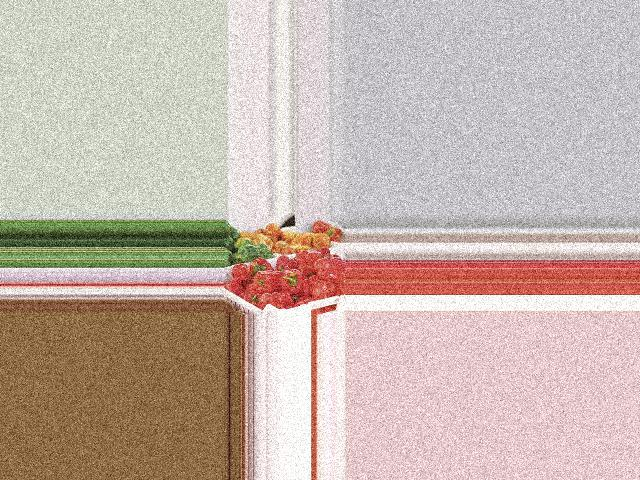bell_pepper: (258, 291, 293, 311)
